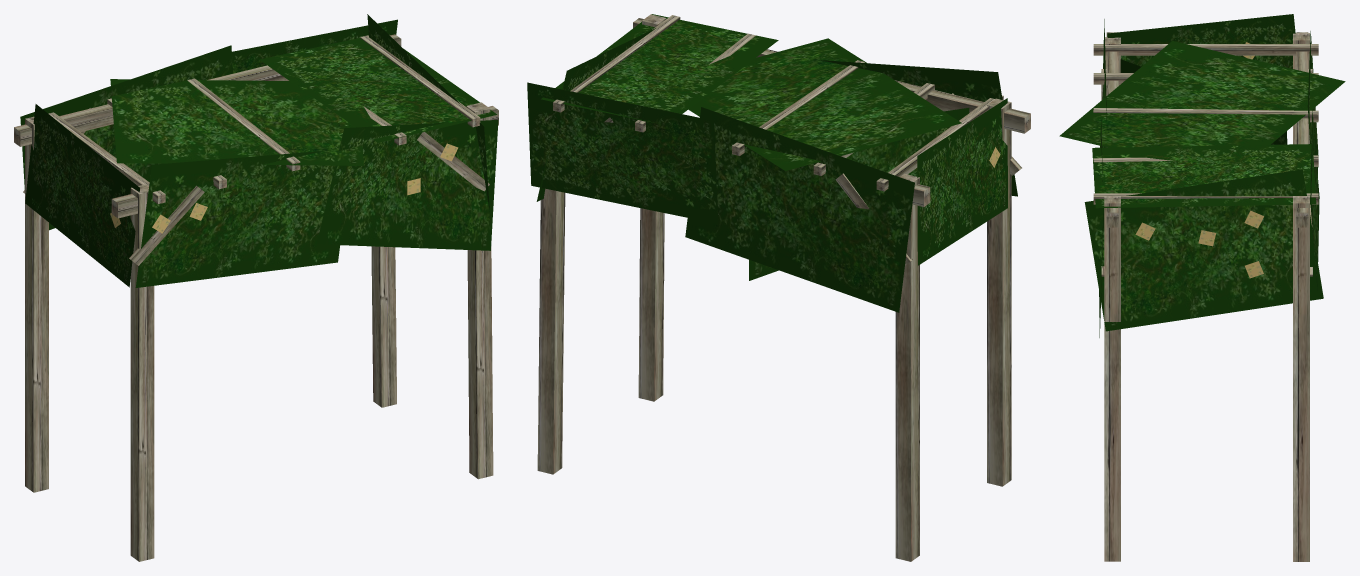
Rendered from trellis_c.fbx.
3 renders of one model, left to right at view 1: azimuth 30°, elevation 25°; view 2: azimuth 150°, elevation 25°; view 3: azimuth 270°, elevation 25°, orthographic. The views are drawn at different scales.
Visible parts, largest first — view 1: vines11, vines1, vines8, vines5, vines3, post_vert1, post_vert2, post_vert3, vines2, post_vert4, vines10, post_horiz2 (+7 smaller); view 2: vines2, vines10, vines8, vines5, vines3, post_vert2, post_vert1, post_vert4, post_vert3, vines11, vines6, post_horiz1 (+4 smaller); view 3: vines4, vines8, vines5, post_vert4, post_vert3, vines3, lath1, lath3, post_horiz2, vines10, lath2, post_horiz1 (+4 smaller).
Boxes of the visible parts, x1,y1,x2,y2 form: vines11: [135, 151, 339, 287]; vines1: [317, 120, 498, 250]; vines8: [110, 79, 363, 165]; vines5: [259, 38, 497, 142]; vines3: [25, 104, 139, 287]; post_vert1: [130, 184, 154, 561]; post_vert2: [25, 116, 48, 492]; post_vert3: [466, 102, 493, 479]; vines2: [20, 45, 233, 230]; post_vert4: [371, 35, 396, 407]; vines10: [232, 19, 397, 73]; post_horiz2: [14, 34, 401, 146]; vines2: [685, 107, 914, 312]; vines10: [527, 82, 718, 223]; vines8: [688, 38, 961, 170]; vines5: [541, 14, 778, 123]; vines3: [917, 98, 1007, 265]; post_vert2: [895, 173, 919, 561]; post_vert1: [987, 98, 1011, 486]; post_vert4: [537, 188, 565, 474]; post_vert3: [638, 14, 666, 401]; vines11: [819, 60, 1017, 196]; vines6: [749, 108, 969, 280]; post_horiz1: [633, 18, 1030, 133]; vines4: [1084, 169, 1323, 331]; vines8: [1059, 41, 1345, 147]; vines5: [1092, 144, 1316, 208]; post_vert4: [1293, 196, 1309, 561]; post_vert3: [1104, 196, 1120, 561]; vines3: [1107, 14, 1295, 68]; lath1: [1093, 44, 1318, 55]; lath3: [1093, 108, 1318, 122]; post_horiz2: [1296, 32, 1308, 227]; vines10: [1310, 109, 1319, 290]; lath2: [1093, 193, 1318, 204]; post_horiz1: [1106, 32, 1118, 227].
Size of the model in its own units: 2322 by 2270 by 1542.
2 materials, 2 textured.
